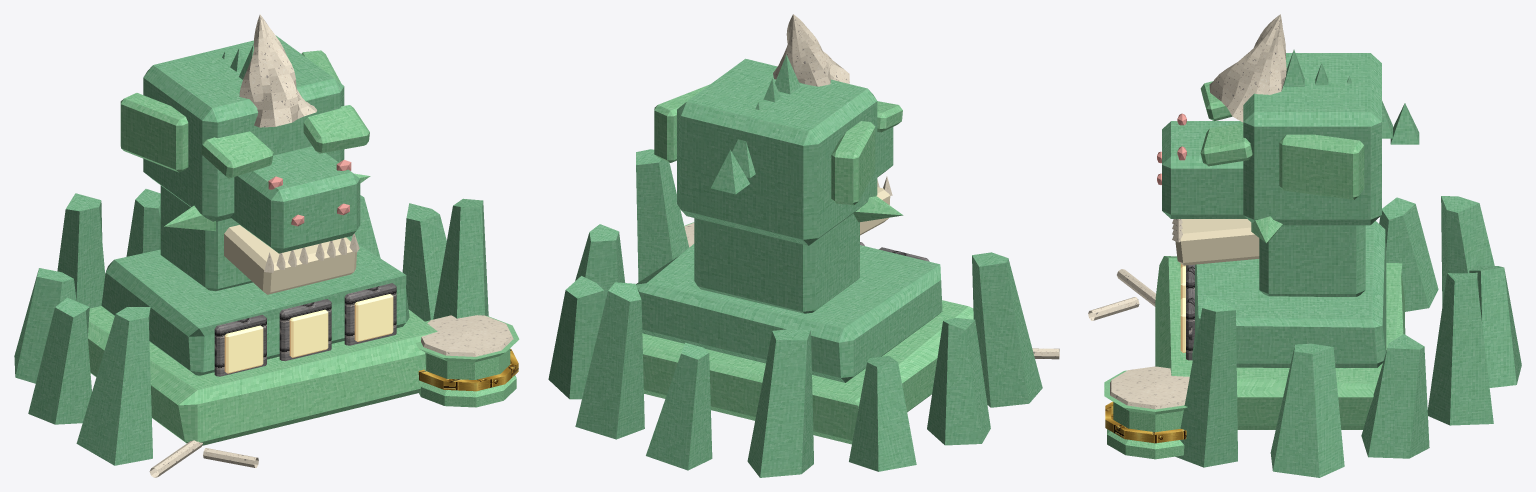
Rendered from totem.glb.
3 views of the same model, side by side, from view 1: azimuth 30°, elevation 25°; view 2: azimuth 150°, elevation 25°; view 3: azimuth 270°, elevation 25° (orthographic).
Visible parts, largest first — view 1: Base, Head, Horn, Rune0, Rune1, Rune2; view 2: Base, Head, Horn; view 3: Base, Head, Horn.
Part boxes in pixels (<box>): Base: <box>14,189,519,477</box>; Head: <box>120,35,370,294</box>; Horn: <box>239,14,316,127</box>; Rune0: <box>224,325,263,373</box>; Rune1: <box>289,309,328,357</box>; Rune2: <box>354,294,393,341</box>; Base: <box>548,149,1059,477</box>; Head: <box>654,54,903,313</box>; Horn: <box>773,14,849,86</box>; Base: <box>1088,196,1521,477</box>; Head: <box>1157,49,1419,296</box>; Horn: <box>1209,14,1286,122</box>.
Bounding box in the file's own units: 5.26 × 4.37 × 4.69.
8 materials, 5 textured.
